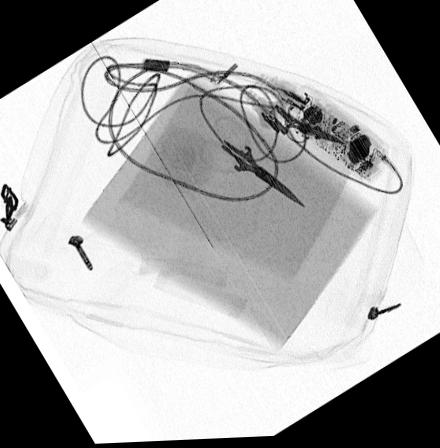Scissors: (194, 114, 304, 210)
